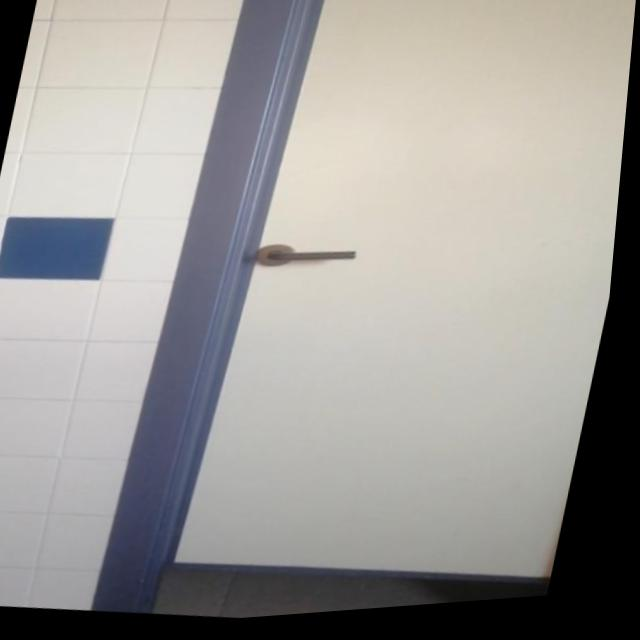door_handle: (267, 248, 365, 280)
